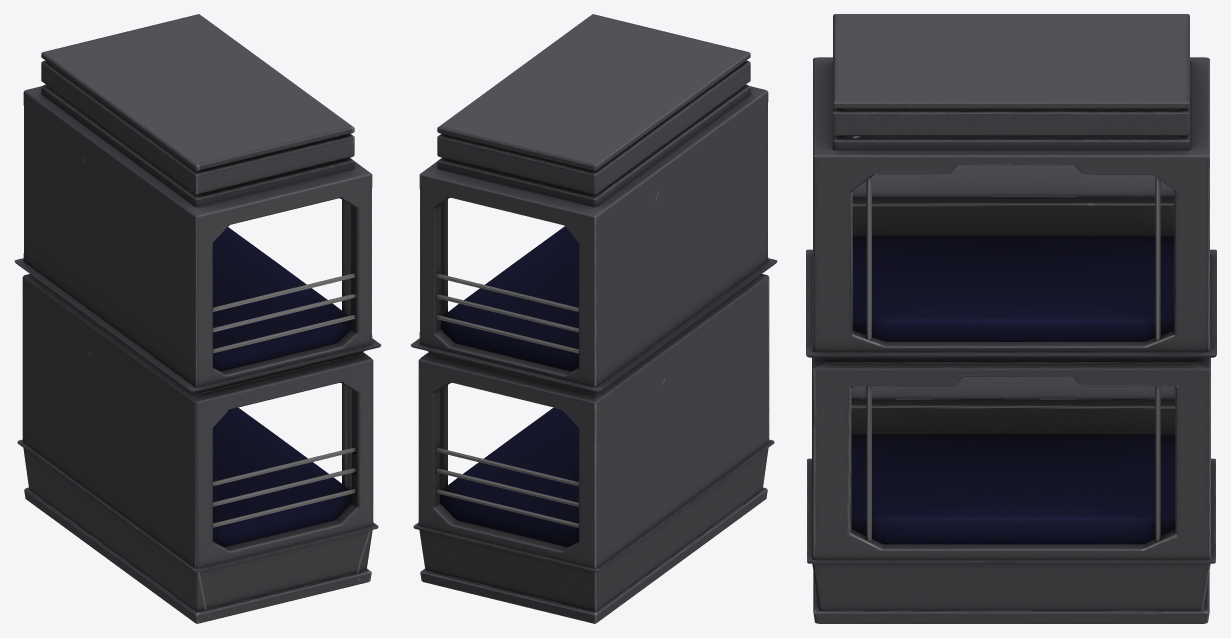
File: SM_BunkBeds.fbx
3 views of the same model, side by side, from view 1: azimuth 30°, elevation 25°; view 2: azimuth 150°, elevation 25°; view 3: azimuth 270°, elevation 25° (orthographic). The views are drawn at different scales.
Parts seen in each view (by area): view 1: SM_BunkBeds; view 2: SM_BunkBeds; view 3: SM_BunkBeds.
Part boxes in pixels (x1,y1,x2,y2): SM_BunkBeds: [14, 14, 381, 623]; SM_BunkBeds: [410, 14, 777, 623]; SM_BunkBeds: [806, 14, 1216, 623].
Size of what is drawn, in the model's own units: 142 by 233 by 324.
